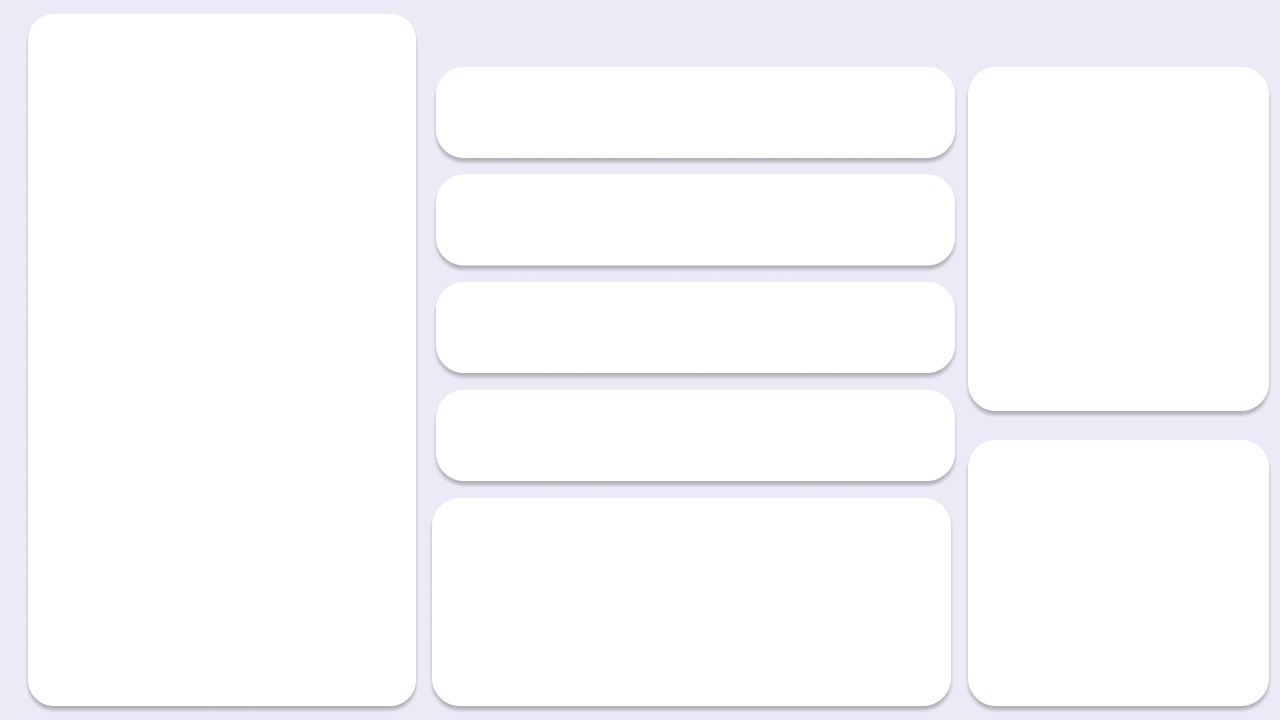

What the dashboard file says about the page in this screenshot:
{"tool":"powerbi","page":{"name":"Homepage","canvas":[1000,700],"ordinal":0},"visuals":[{"type":"pageNavigator","box":[38,194.5,234,444.4],"z":1}]}

Visuals, with their boxes on the page's 1000x700 design canvas (x1, y1, x2, y2). These are canvas units, not pixel positions in the 1280x720 screenshot, which may show the page scaled, cropped or inside an application window:
pageNavigator: pyautogui.locateOnScreen(38, 194, 272, 639)
